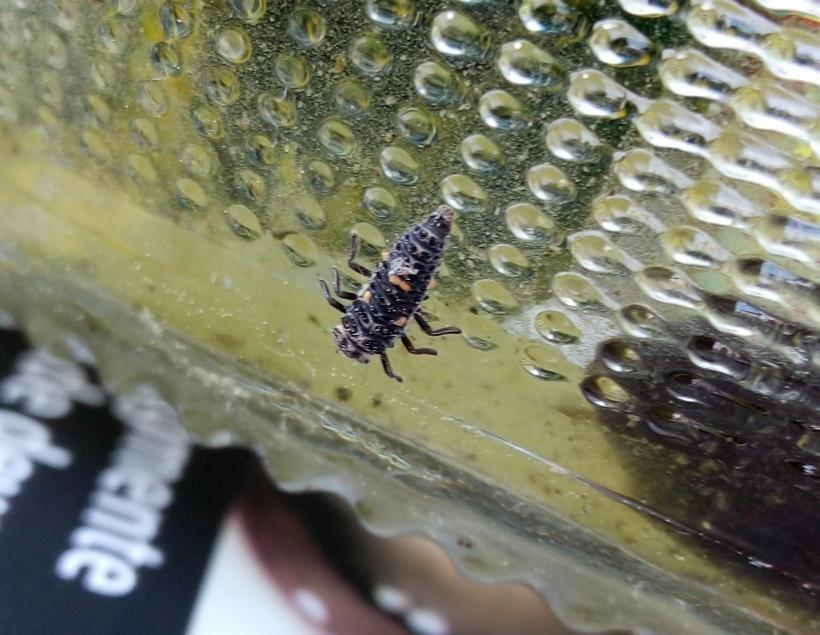ladybug: (318, 203, 464, 386)
